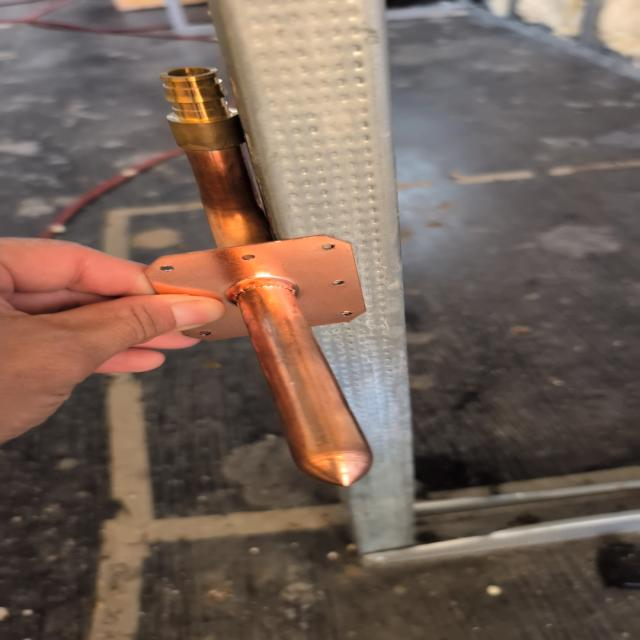wall_flange: (130, 65, 381, 496)
